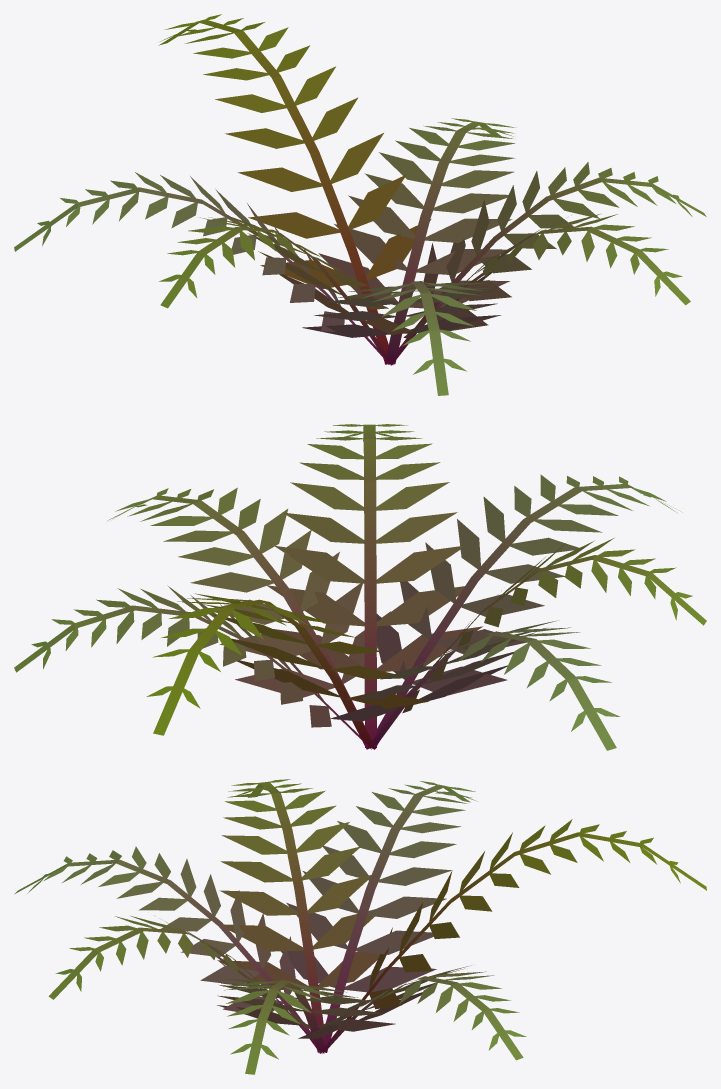
The model's file is veg_fern_a.glb.
3 renders of one model, top to bottom at view 1: azimuth 30°, elevation 25°; view 2: azimuth 150°, elevation 25°; view 3: azimuth 270°, elevation 25°, orthographic. The views are drawn at different scales.
Visible parts, largest first — view 1: veg_fern_a_LOD0; view 2: veg_fern_a_LOD0; view 3: veg_fern_a_LOD0.
Part boxes in pixels (bbox=[...]): veg_fern_a_LOD0: bbox=[14, 14, 706, 395]; veg_fern_a_LOD0: bbox=[14, 424, 706, 750]; veg_fern_a_LOD0: bbox=[14, 779, 706, 1074].
Size of what is drawn, in the model's own units: 0.7253 by 0.2797 by 0.826.
